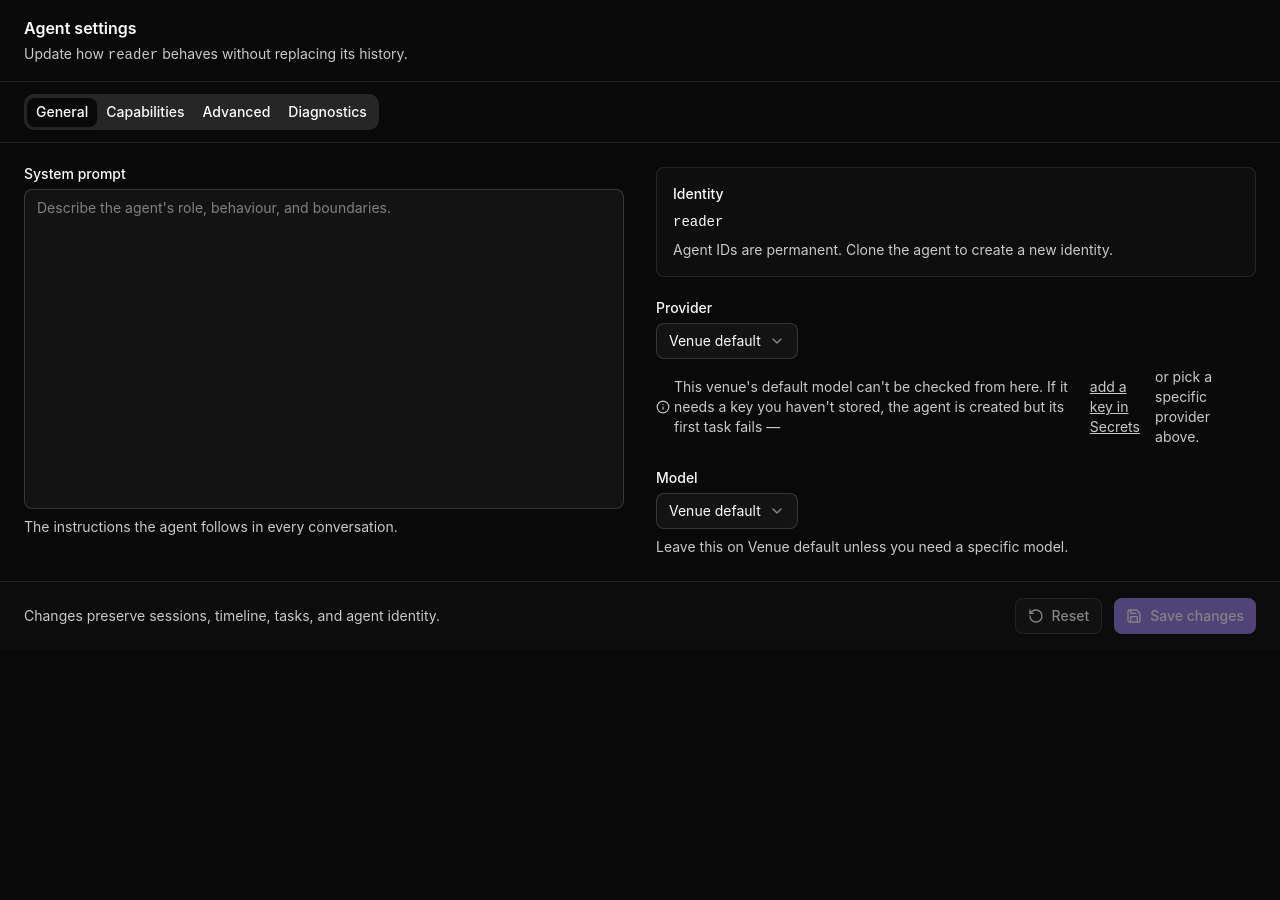
it: AgentSettings — tool/skill picker › reflects the agent's current tools as attached in the picker
The width and height of the screenshot is (1280, 900).
What coordinates should you click on to do the following:
click the tab "Capabilities"
I would click on:
 (145, 112)
Its box is [97,98,194,126].
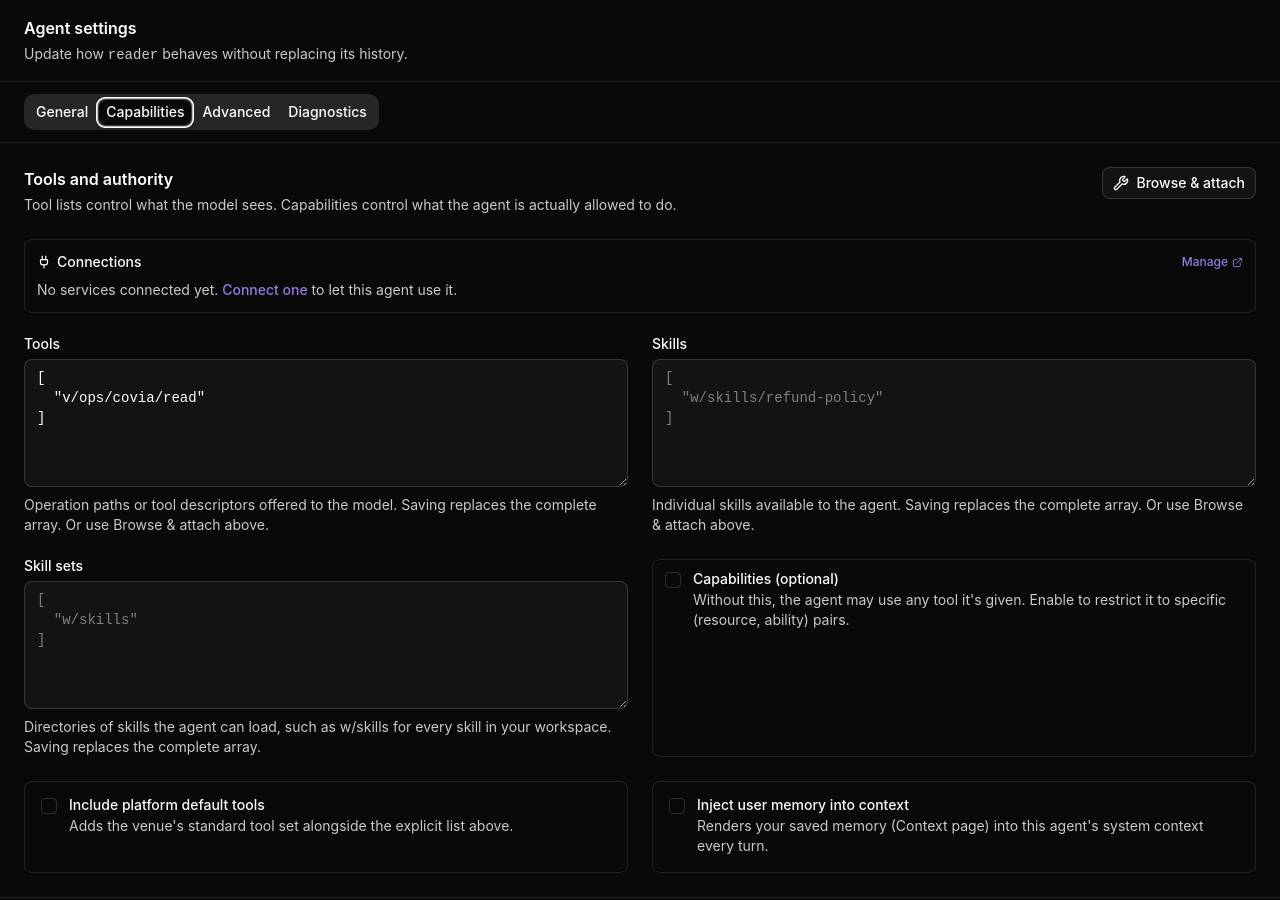
What coordinates should you click on to do the following:
click the button with test id "open-tool-skill-picker"
I would click on:
 (1179, 183)
Its box is [1102,167,1256,199].
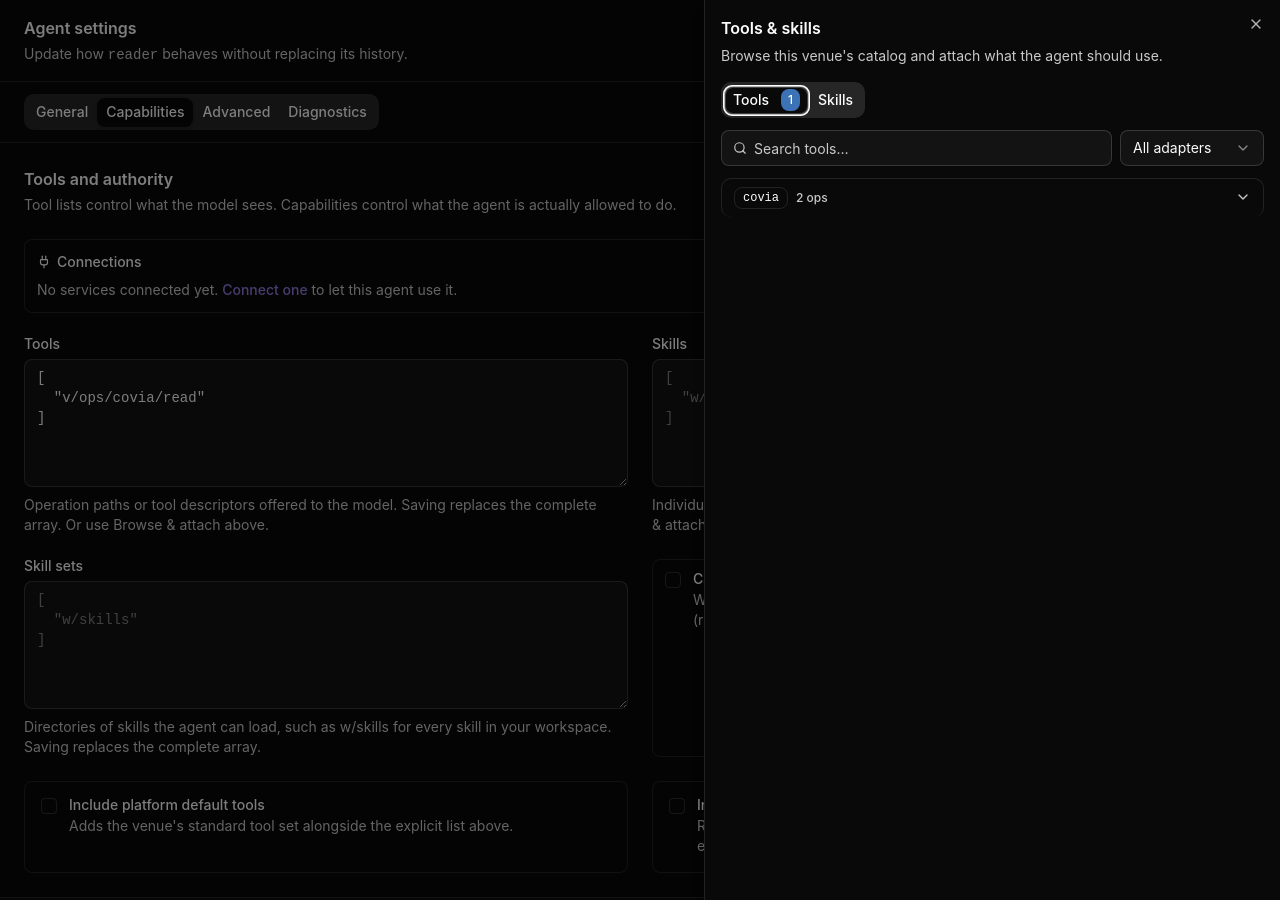
What coordinates should you click on to do the following:
click the button "covia 2 ops"
I would click on:
 (761, 198)
Its box is [722,179,1263,217].
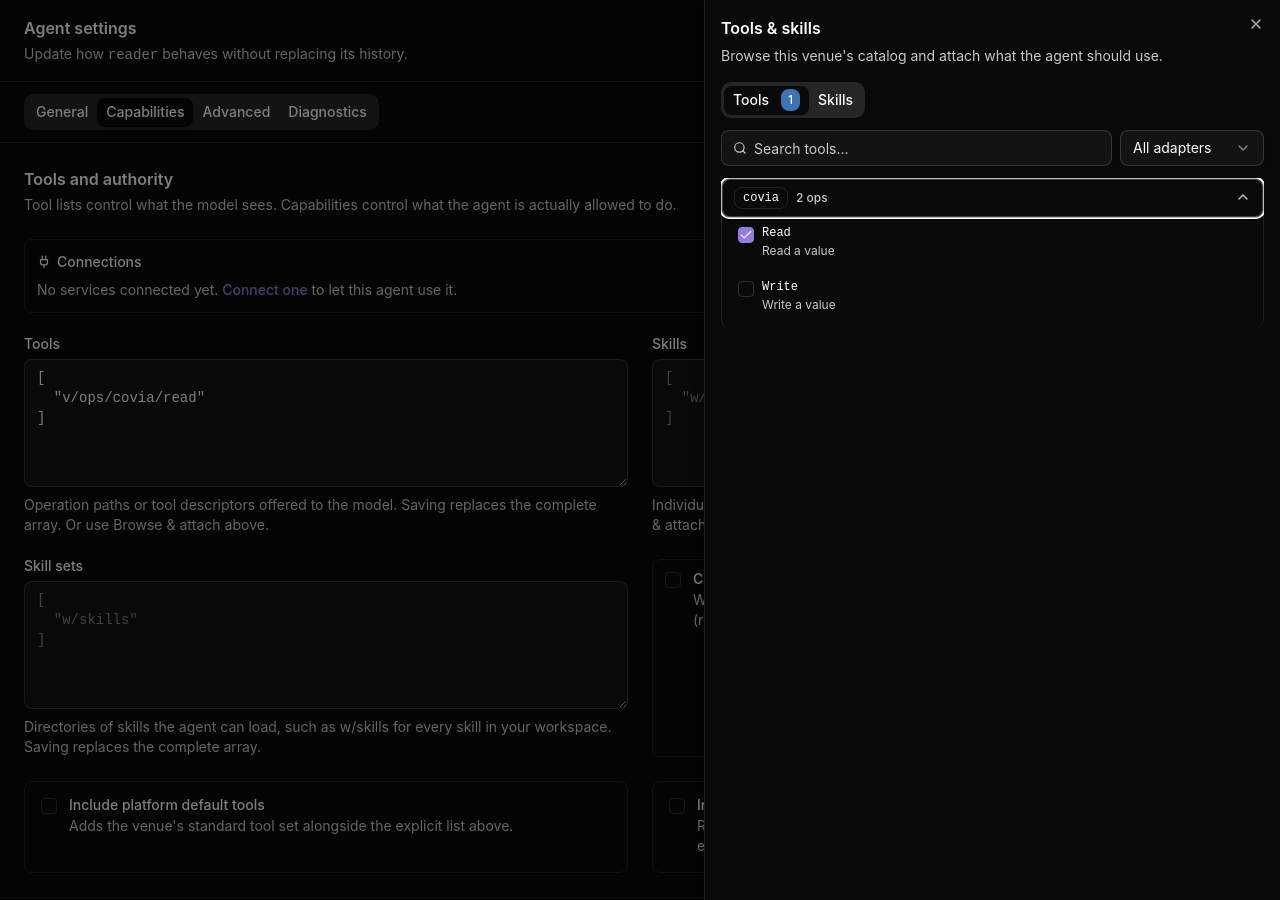
Result: the checkbox named "Attach Read" is checked at [738,227,754,243]
Result: the checkbox named "Attach Write" is not checked at [738,281,754,297]
